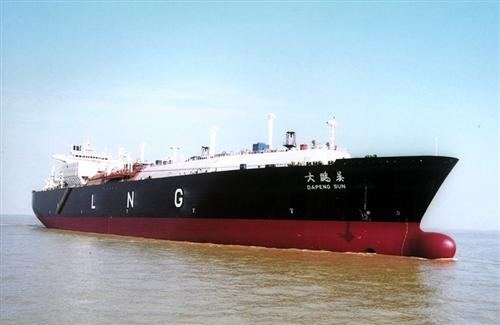Cargoship: (27, 109, 463, 261)
